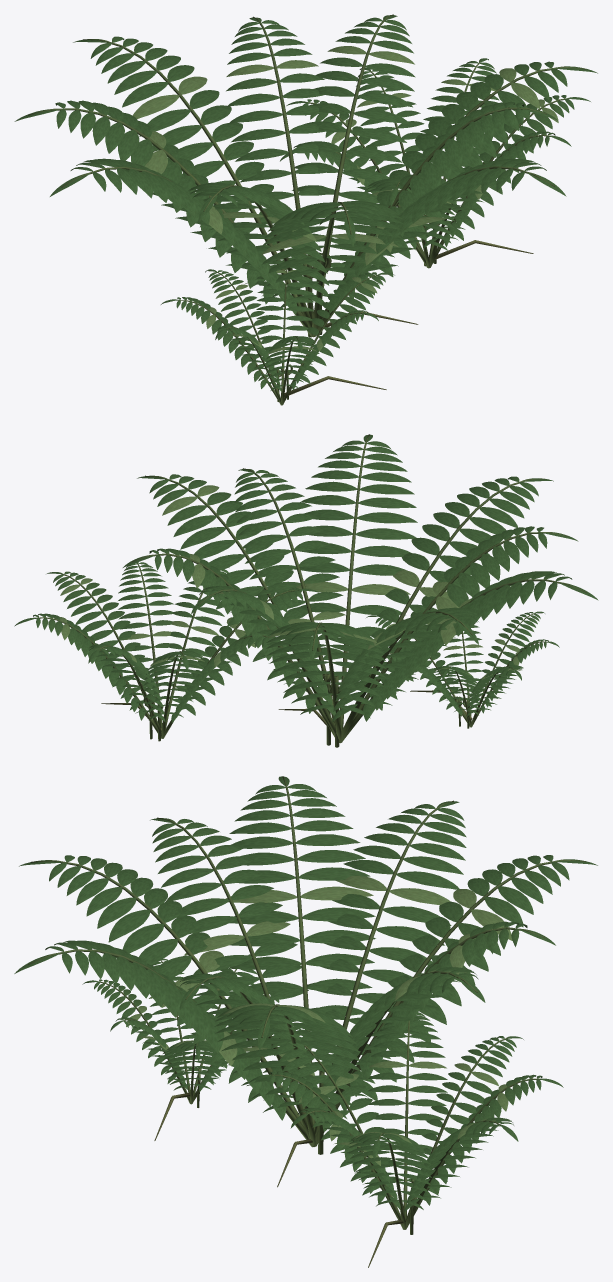
Rendered from forest_fern_cluster.glb.
The picture shows the model from 3 angles, top to bottom: view 1: azimuth 30°, elevation 25°; view 2: azimuth 150°, elevation 25°; view 3: azimuth 270°, elevation 25°; orthographic projection. The views are drawn at different scales.
Visible parts, largest first — view 1: forest_leaf_surface, forest_flexible_stem_surface, forest_new_leaf_surface, forest_old_leaf_surface; view 2: forest_leaf_surface, forest_flexible_stem_surface, forest_new_leaf_surface; view 3: forest_leaf_surface, forest_flexible_stem_surface, forest_new_leaf_surface.
Boxes of the visible parts, left/top/right/bottom form: forest_leaf_surface: left=14, top=15, right=597, bottom=391; forest_flexible_stem_surface: left=28, top=14, right=585, bottom=405; forest_new_leaf_surface: left=133, top=46, right=558, bottom=354; forest_old_leaf_surface: left=281, top=240, right=533, bottom=397; forest_leaf_surface: left=14, top=434, right=598, bottom=722; forest_flexible_stem_surface: left=32, top=434, right=586, bottom=747; forest_new_leaf_surface: left=59, top=485, right=521, bottom=679; forest_leaf_surface: left=14, top=776, right=597, bottom=1211; forest_flexible_stem_surface: left=27, top=776, right=585, bottom=1234; forest_new_leaf_surface: left=126, top=876, right=512, bottom=1165.
Bounding box in the file's own units: 1.55 × 0.5945 × 1.29.
Materials: 4 (4 with a texture image).
